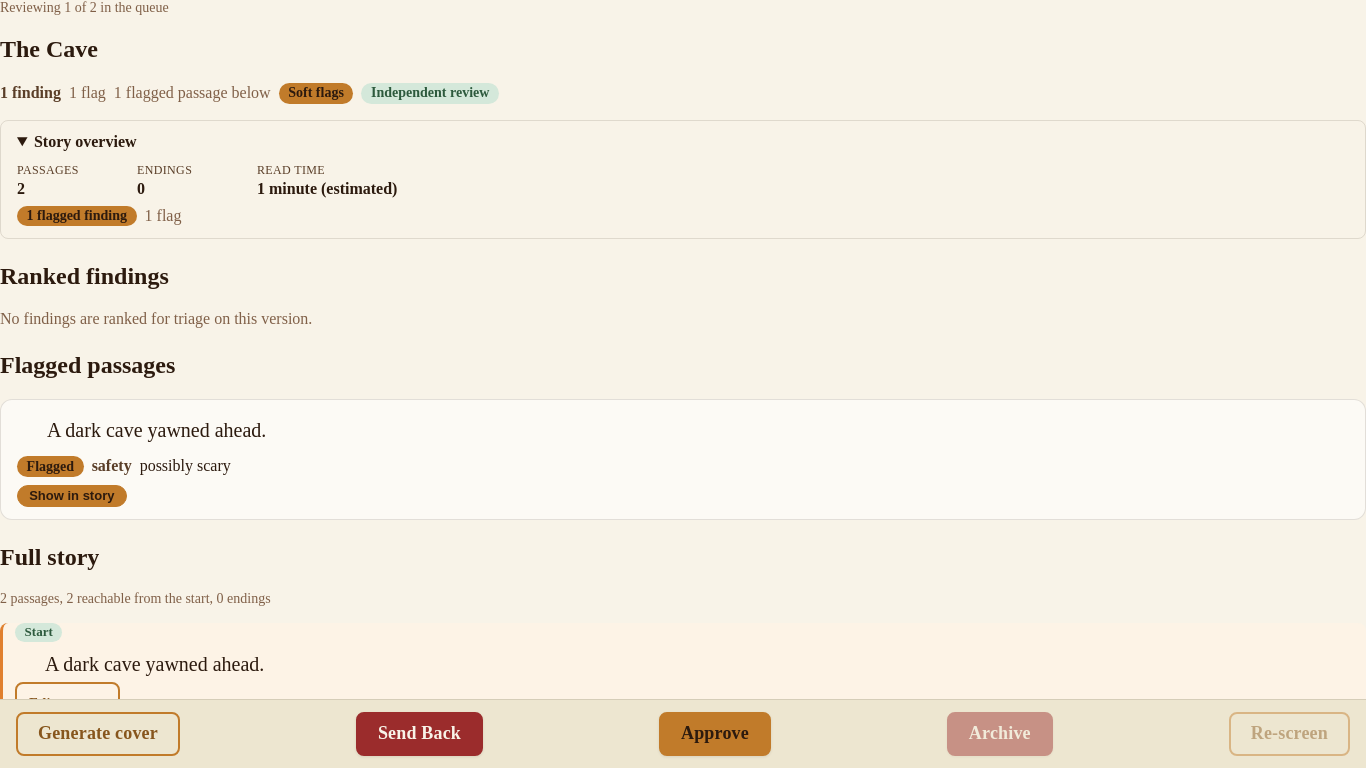
Test case: ReviewDetailPage › shows queue position and auto-advances to the next item after a decision (UX-A1)
Expected: the text "Reviewing 1 of 2 in the queue" is shown, x1=0 y1=0 x2=169 y2=15
Step 1. Click the button "Approve" → click(715, 734), box x1=659 y1=712 x2=771 y2=756
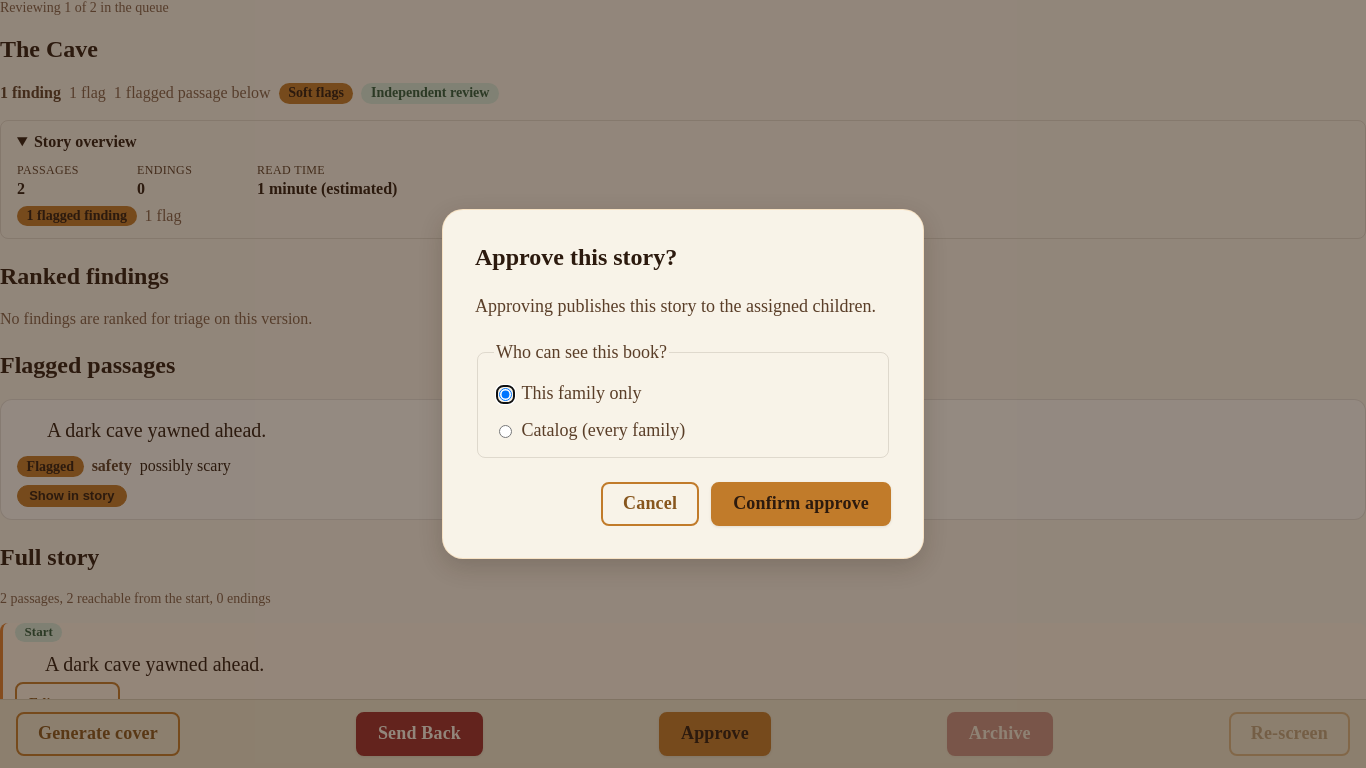
Step 2. Click the button "Confirm approve" → click(801, 504), box x1=711 y1=482 x2=891 y2=526
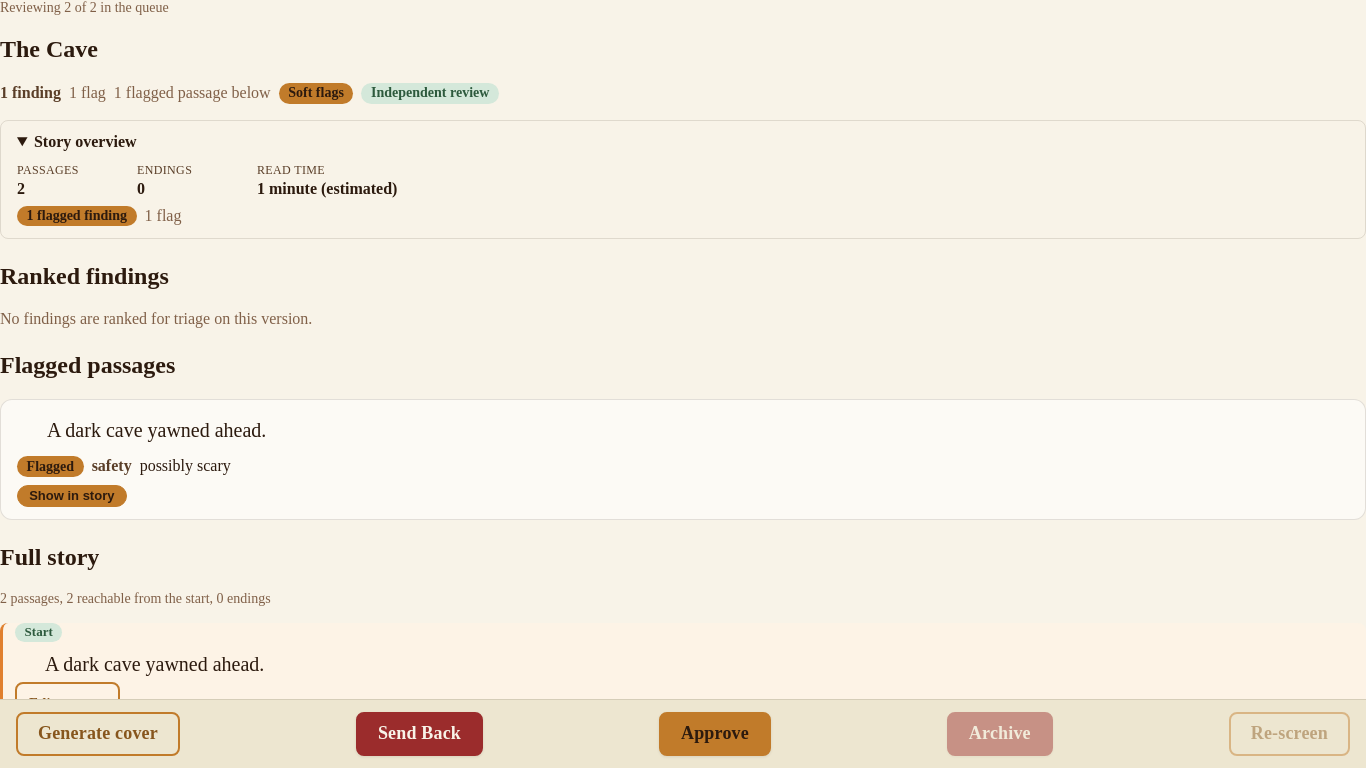
Expected: the text "Reviewing 2 of 2 in the queue" is shown, x1=0 y1=0 x2=169 y2=15
